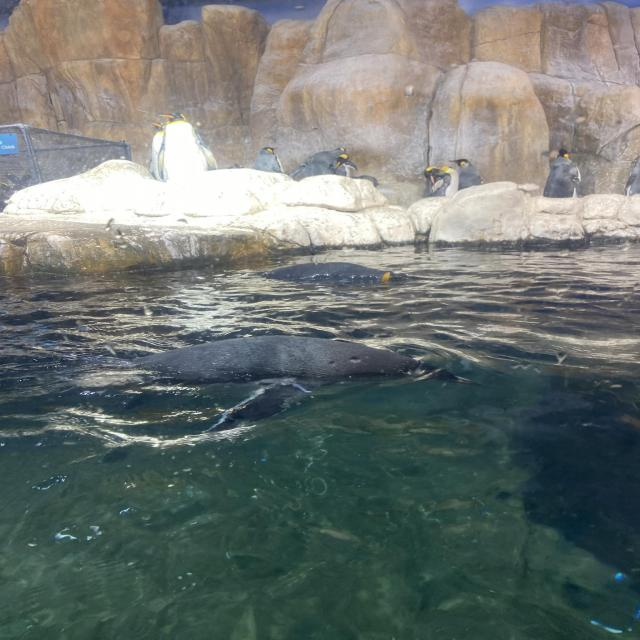penguin: (92, 334, 450, 428), (262, 256, 414, 293), (164, 110, 222, 180), (542, 140, 586, 200), (420, 163, 462, 207), (147, 123, 176, 179), (242, 144, 286, 179), (451, 153, 488, 193), (335, 153, 370, 188), (304, 143, 352, 168), (624, 150, 640, 195)
